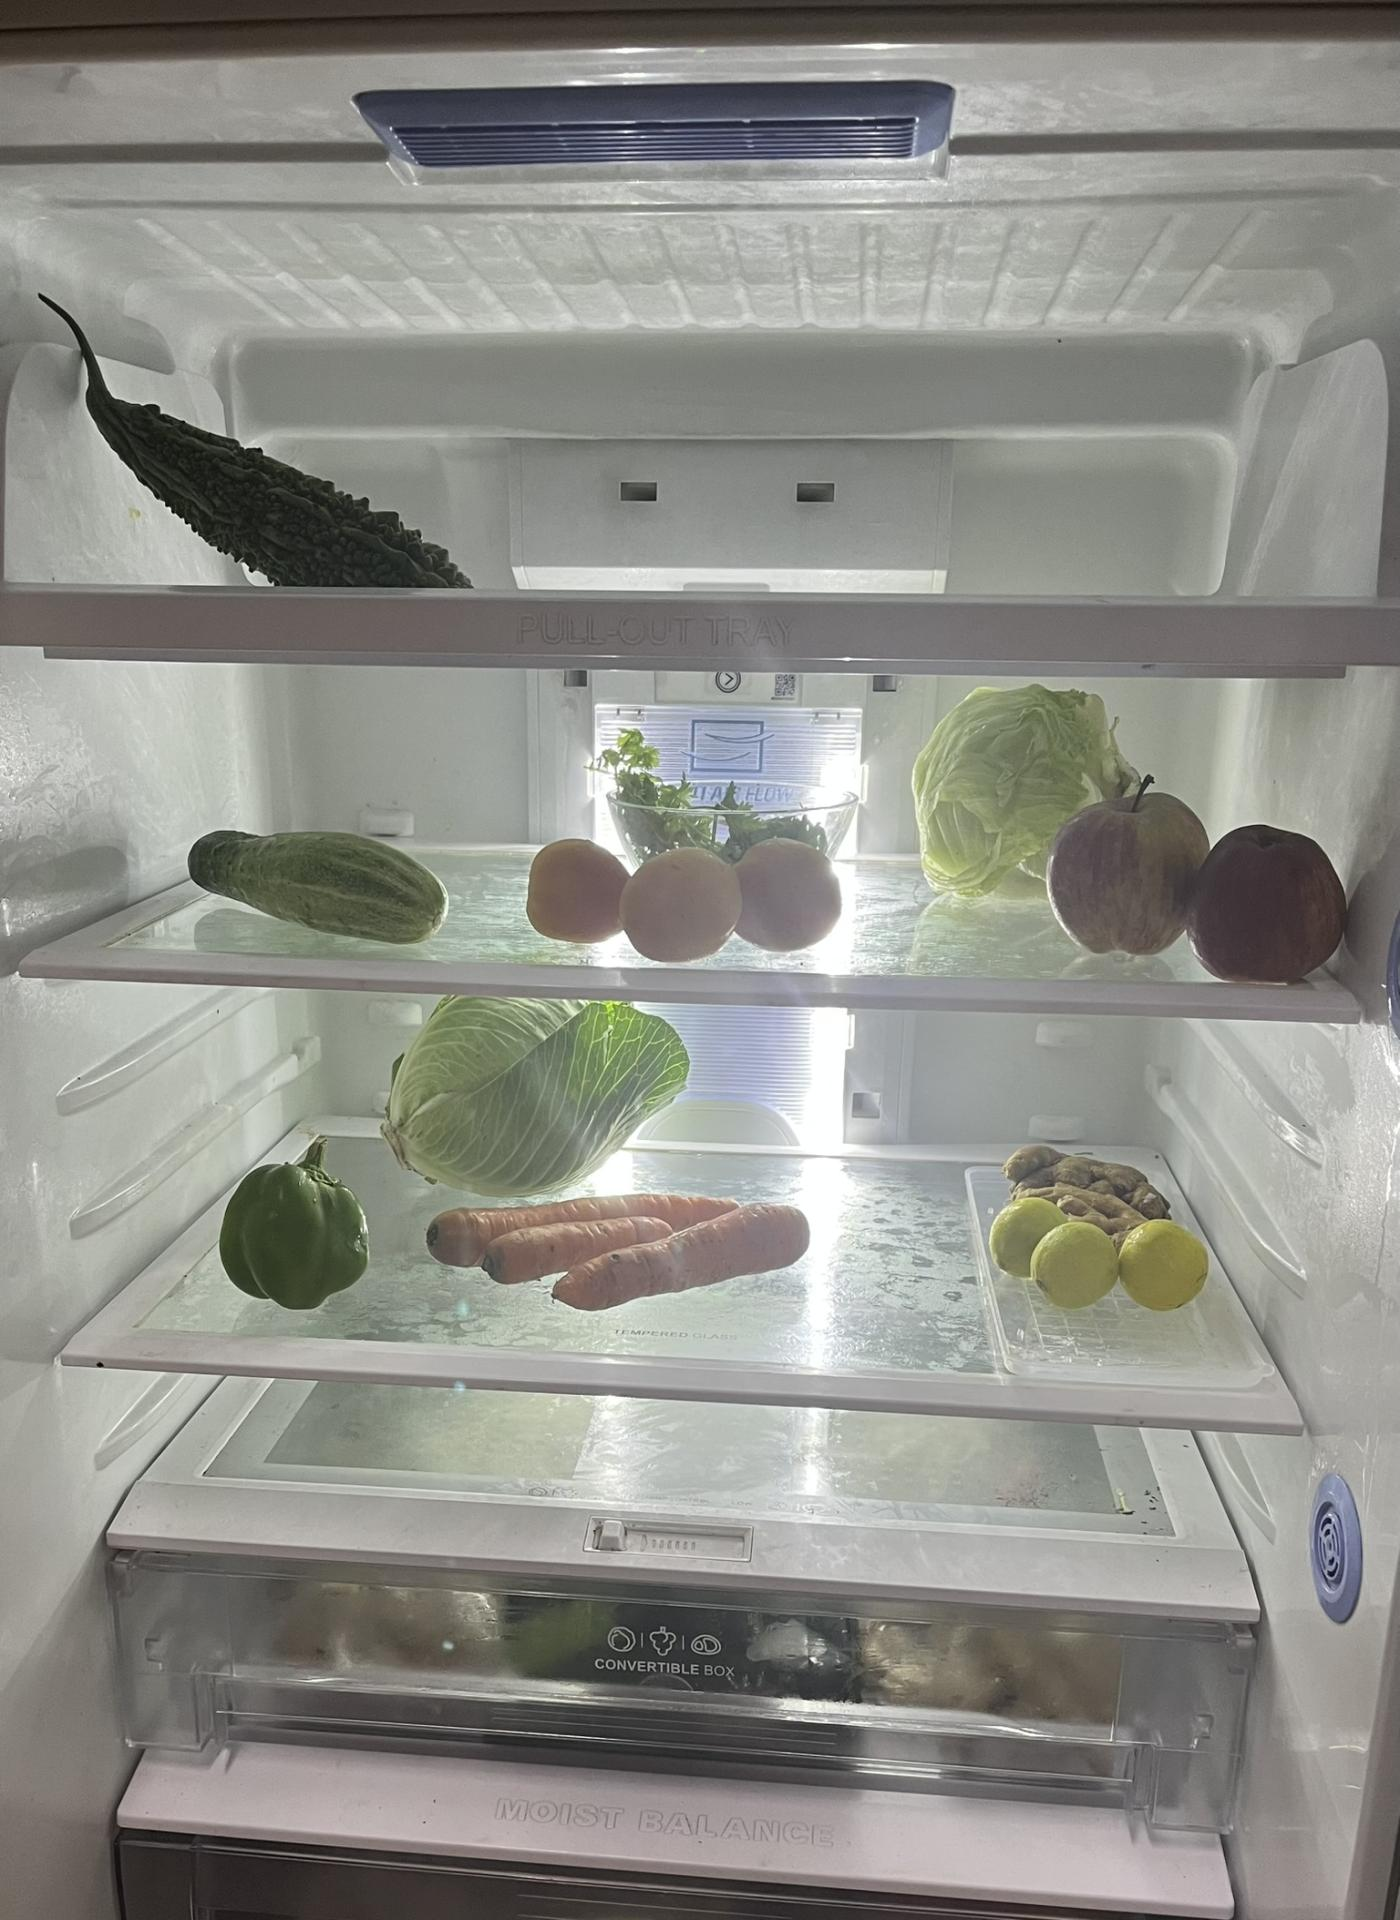apple: (1051, 775, 1348, 982)
bitter gourd: (52, 316, 458, 583)
cabbage: (386, 990, 686, 1197)
capsicum: (222, 1142, 376, 1313)
carrots: (434, 1190, 811, 1304)
coriander: (590, 720, 853, 844)
cucumber: (183, 821, 443, 953)
ginger: (1005, 1142, 1173, 1225)
lemon: (991, 1201, 1208, 1313)
lettuce: (909, 683, 1132, 896)
tomato: (531, 841, 842, 956)
